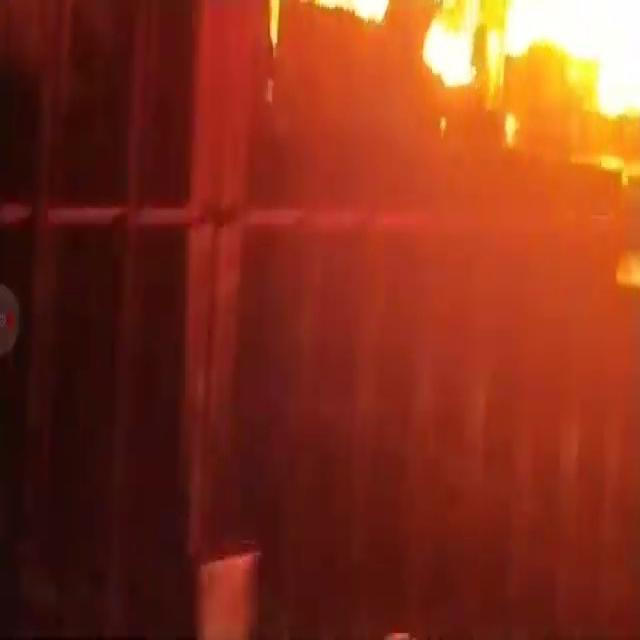Fire: (549, 3, 636, 63), (427, 24, 479, 82)
